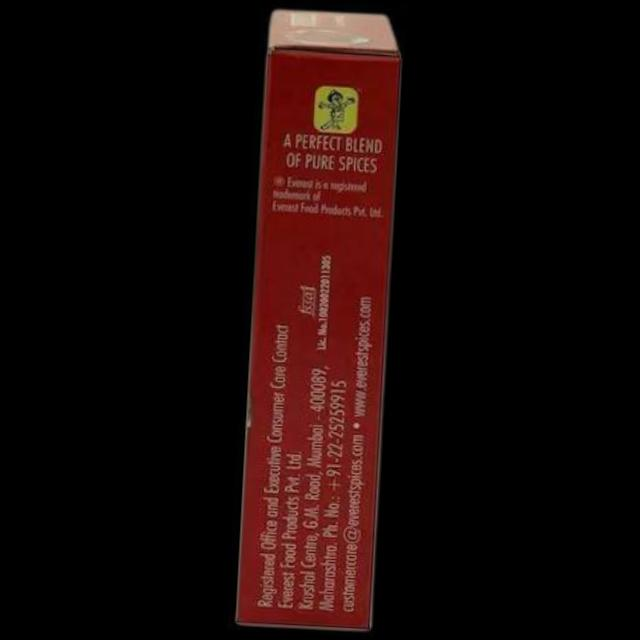Everest Chicken Masala 100 g: (225, 0, 410, 635)
